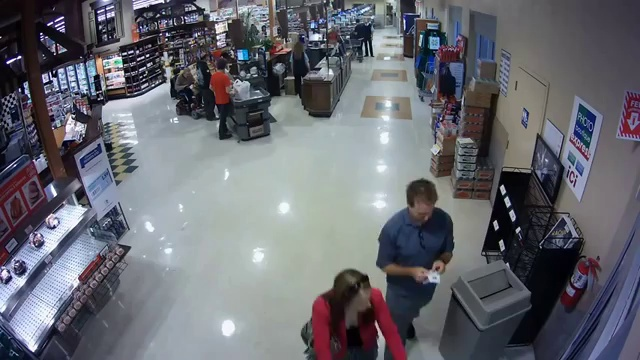face: (415, 197, 436, 227), (352, 291, 373, 315), (184, 72, 190, 78)
